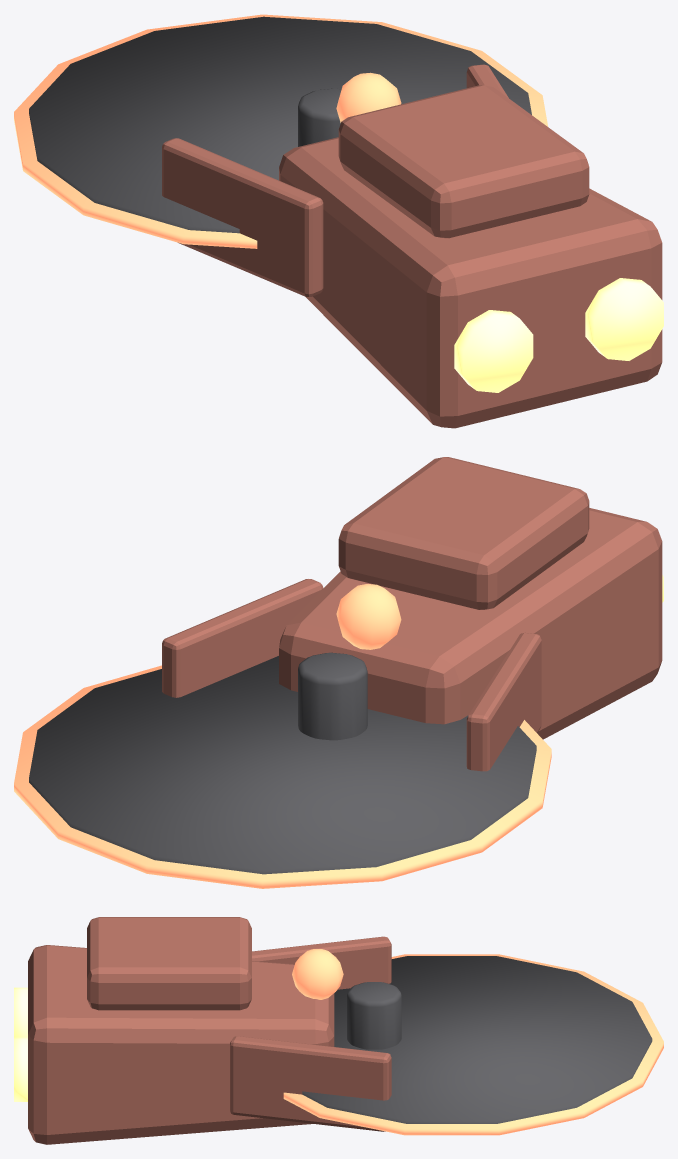
File: saeger.glb
3 views of the same model, one above another, from view 1: azimuth 30°, elevation 25°; view 2: azimuth 150°, elevation 25°; view 3: azimuth 270°, elevation 25° (orthographic). The views are drawn at different scales.
Parts seen in each view (by area): view 1: Rumpf, Rotor, Haube, Schutz-1, Saegekante, Duese-1, Duese1, Achse, Auge, Schutz1; view 2: Rotor, Rumpf, Haube, Saegekante, Schutz1, Schutz-1, Achse, Auge; view 3: Rotor, Rumpf, Haube, Schutz1, Saegekante, Achse, Schutz-1, Auge, Duese1, Duese-1.
Part boxes in pixels (box(x1,y1,x2,y2)): Rumpf: box(279, 137, 662, 428); Rotor: box(29, 16, 531, 233); Haube: box(338, 85, 589, 238); Schutz-1: box(162, 138, 323, 297); Saegekante: box(14, 14, 548, 248); Duese-1: box(454, 310, 533, 392); Duese1: box(585, 278, 663, 360); Achse: box(298, 88, 341, 146); Auge: box(336, 72, 401, 122); Schutz1: box(466, 64, 508, 97); Rotor: box(29, 656, 536, 874); Rumpf: box(279, 508, 662, 739); Haube: box(338, 457, 589, 609); Saegekante: box(14, 665, 551, 888); Schutz1: box(162, 579, 323, 697); Schutz-1: box(466, 632, 541, 771); Achse: box(298, 652, 367, 740); Auge: box(336, 584, 401, 649); Rotor: box(302, 956, 652, 1123); Rumpf: box(28, 945, 334, 1144); Haube: box(87, 917, 251, 1010); Schutz1: box(230, 1036, 391, 1131); Saegekante: box(283, 954, 663, 1135); Achse: box(347, 982, 401, 1049); Schutz-1: box(252, 936, 391, 989); Auge: box(292, 949, 343, 999); Duese1: box(14, 1037, 27, 1101); Duese-1: box(14, 987, 27, 1037).
Size of the model in its own units: 1.75 by 0.7763 by 2.76.
